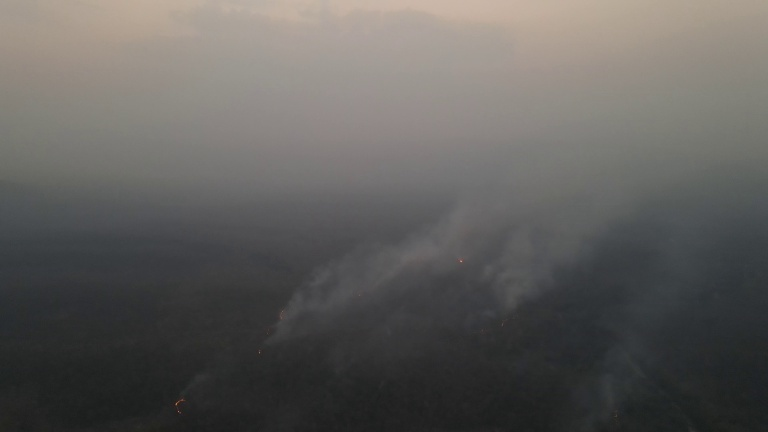fire: (259, 292, 299, 356), (480, 306, 524, 339), (171, 394, 187, 417), (612, 406, 623, 419), (455, 257, 466, 265)
smoke: (266, 132, 619, 353), (581, 260, 686, 431), (181, 361, 219, 410)
